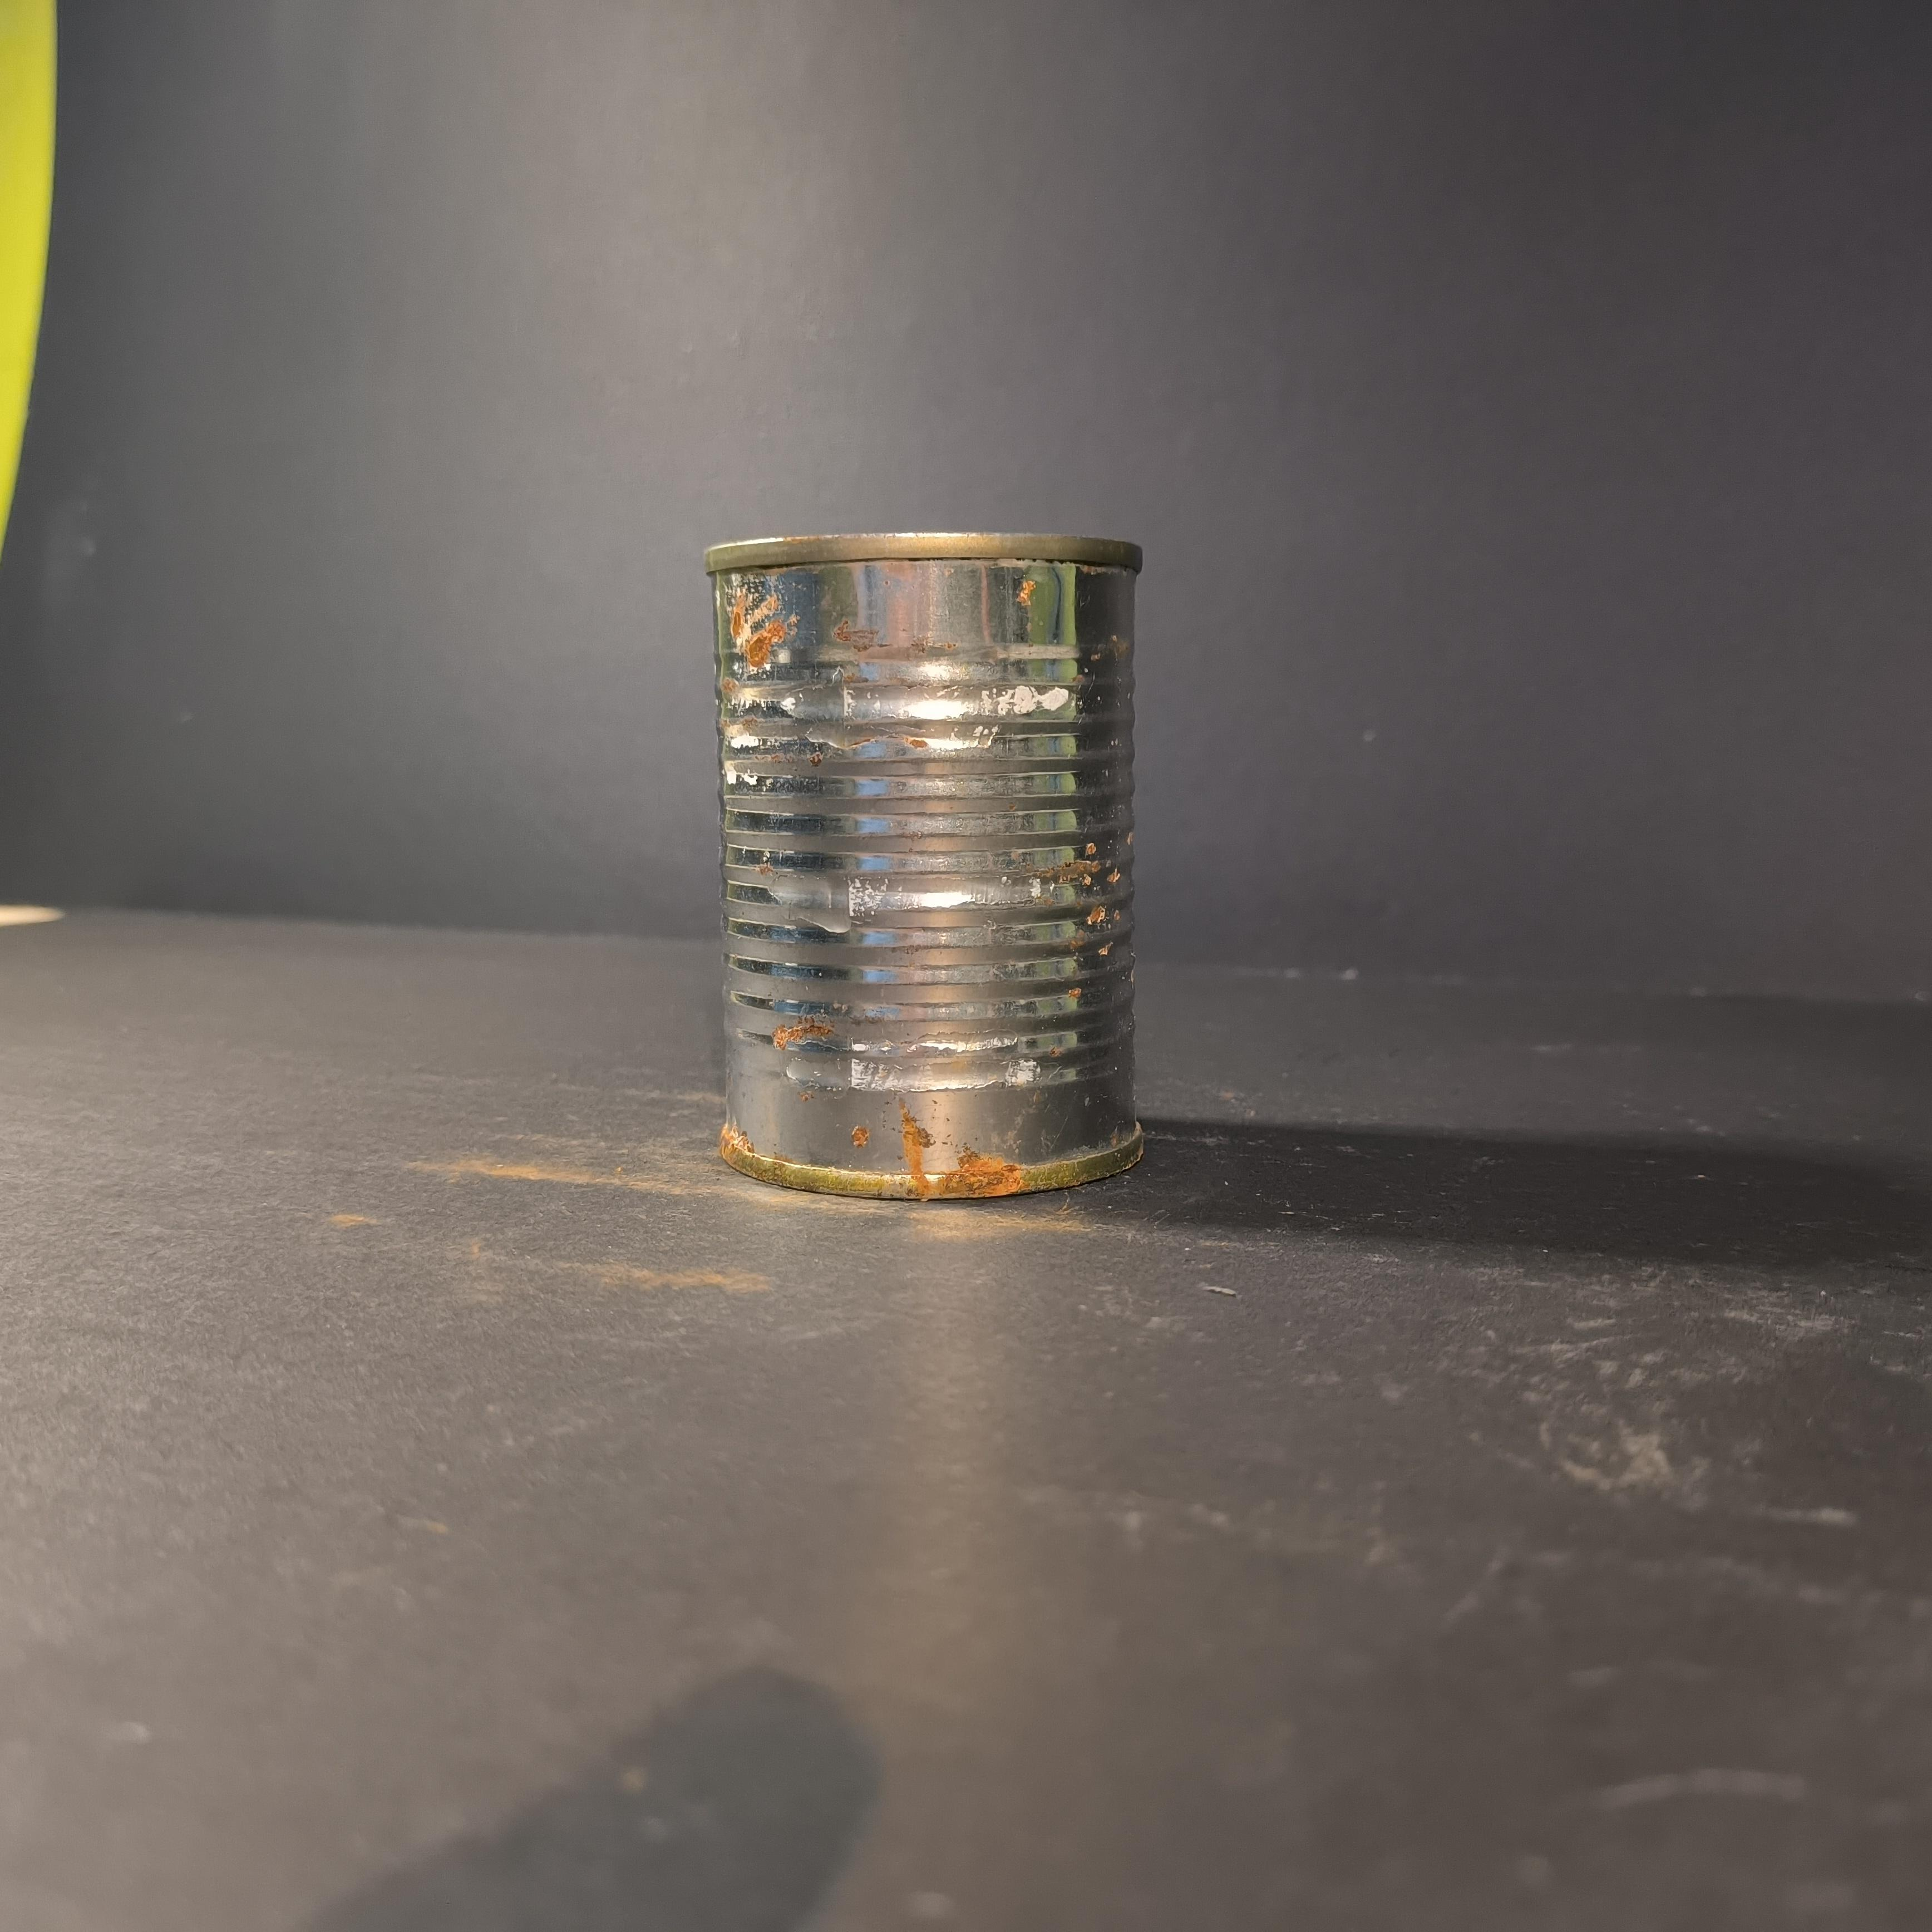Rusted: (685, 515, 1177, 1207)
